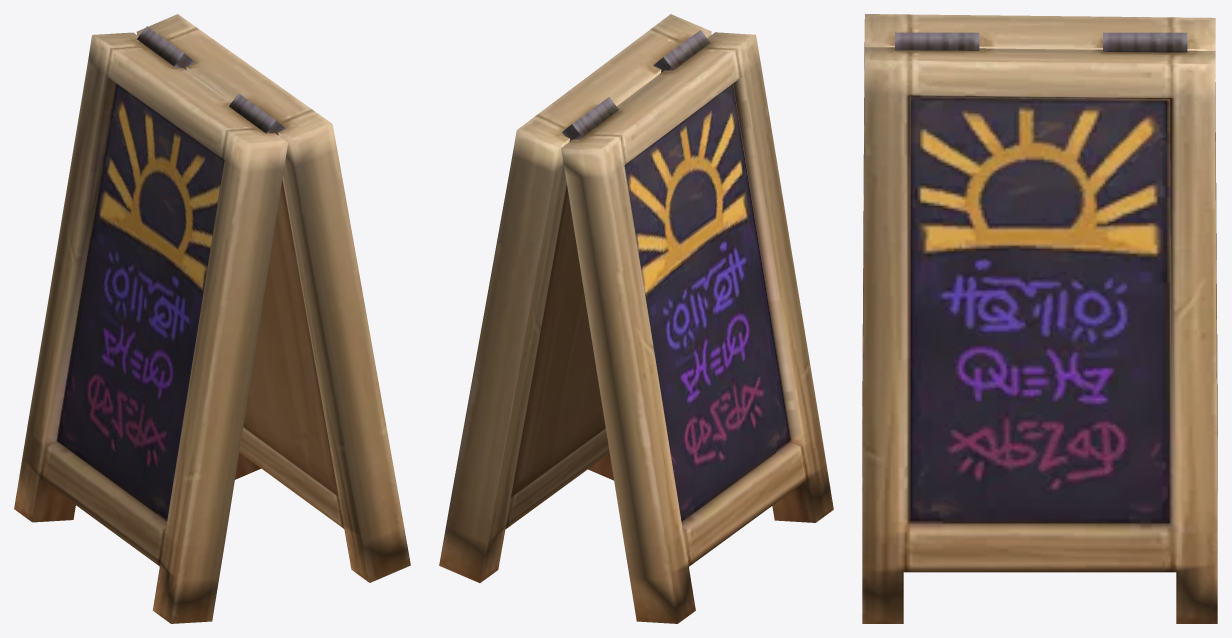
3 renders of one model, left to right at view 1: azimuth 30°, elevation 25°; view 2: azimuth 150°, elevation 25°; view 3: azimuth 270°, elevation 25°, orthographic. The views are drawn at different scales.
Size of the model in its own units: 0.7008 by 1.32 by 0.7942.
1 material, 1 textured.
